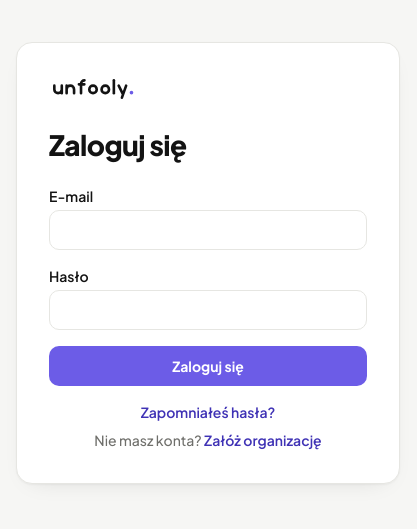
LoginPage › bez EMAIL_NOT_VERIFIED (zwykły błąd logowania) nie pokazuje przycisku ponownej wysyłki
The image size is (417, 529).
Step 1. Type "jan@test.pl" into the field labelled "E-mail" → (208, 230), box [49,210,367,250]
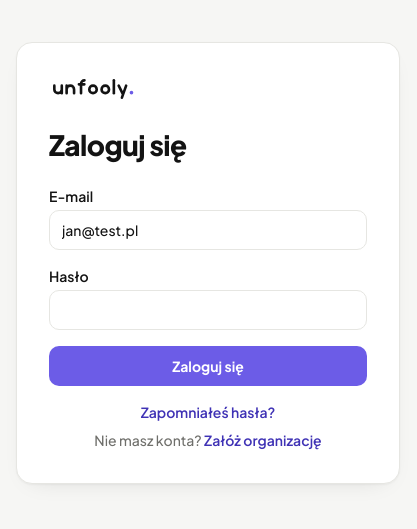
Step 2. Type "SuperSecret123!" into the password field labelled "Hasło" → (208, 310), box [49,290,367,330]
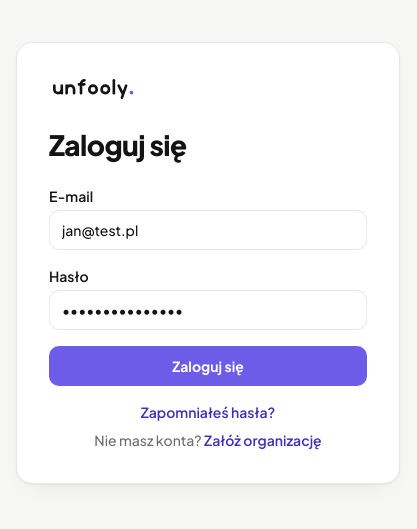
Step 3. Click the button "Zaloguj się" → (208, 366), box [49,346,367,386]
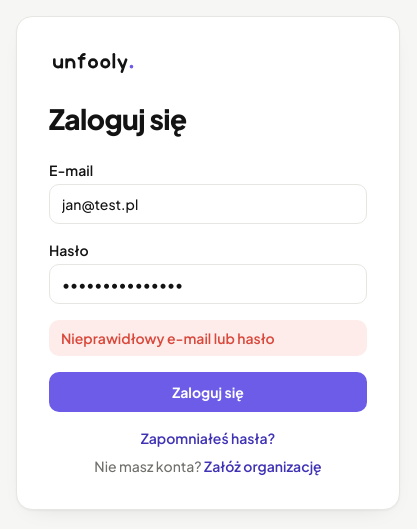
Now the message "Nieprawidłowy e-mail lub hasło" is shown, box [49,320,367,356]
